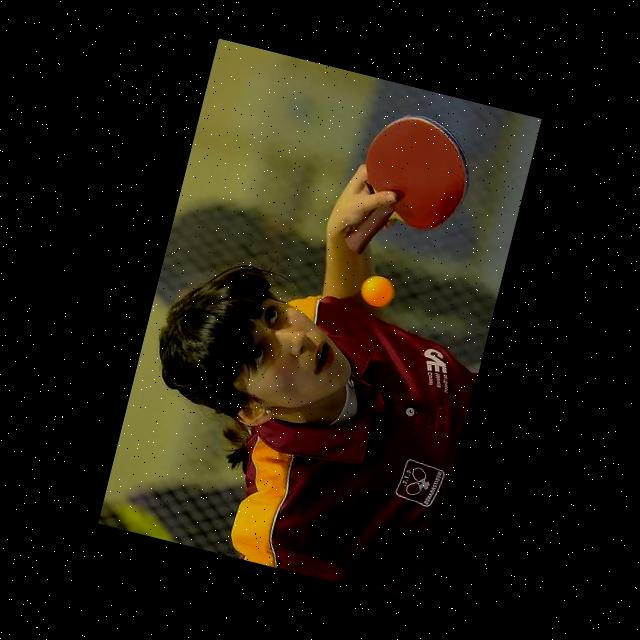ping-pong-ball: (358, 270, 400, 310)
